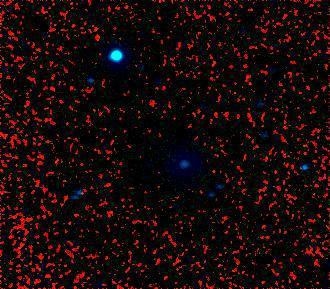star: (242, 91, 272, 121)
